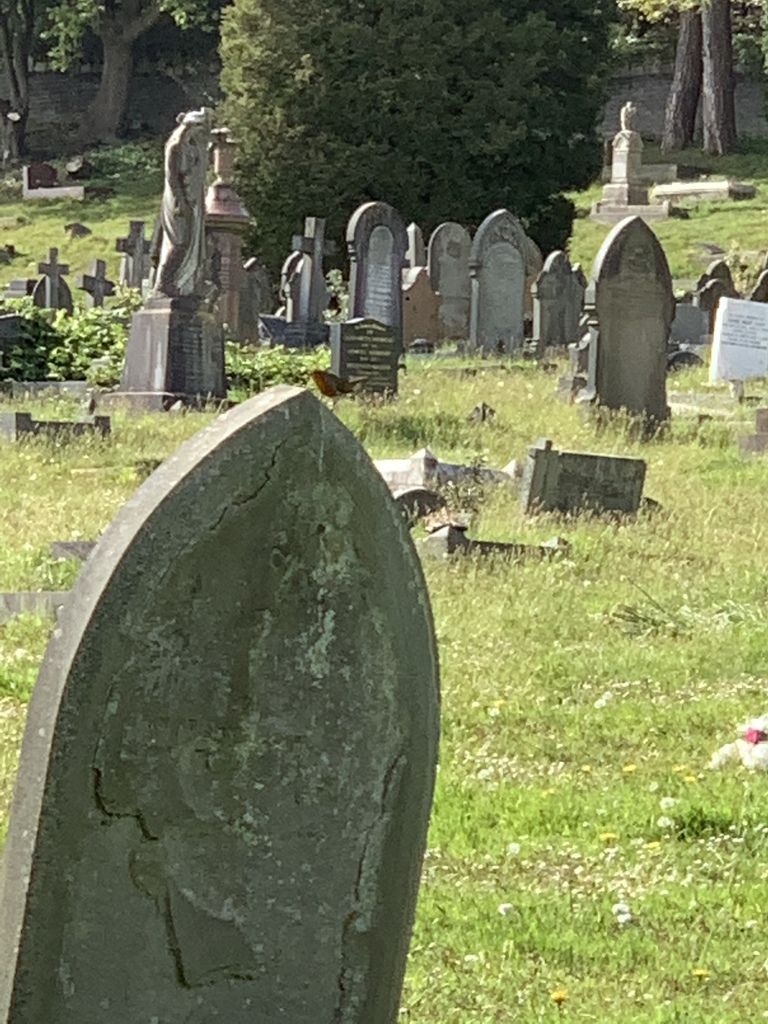Erithacus_Rubecula: (307, 368, 367, 411)
